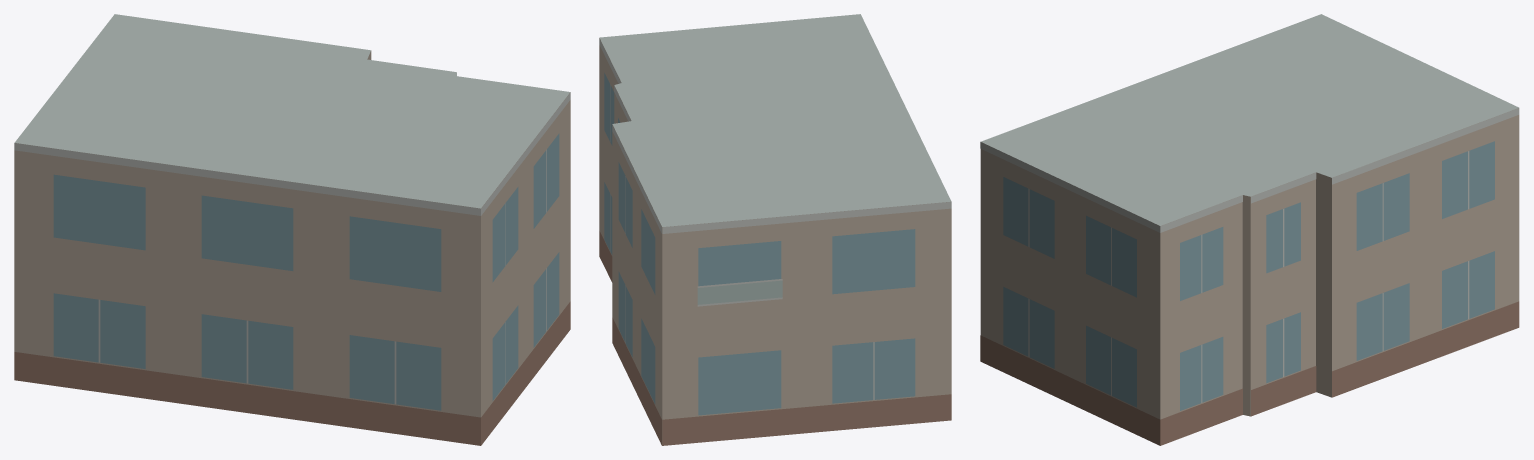
The model's file is survey-upis-33022003.glb.
3 renders of one model, left to right at view 1: azimuth 30°, elevation 25°; view 2: azimuth 150°, elevation 25°; view 3: azimuth 270°, elevation 25°, orthographic. The views are drawn at different scales.
Parts seen in each view (by area): view 1: survey-upis-33022003.tmp; view 2: survey-upis-33022003.tmp; view 3: survey-upis-33022003.tmp.
Boxes of the visible parts, x1,y1,x2,y2 form: survey-upis-33022003.tmp: [14, 14, 570, 445]; survey-upis-33022003.tmp: [599, 14, 951, 445]; survey-upis-33022003.tmp: [980, 14, 1519, 445].
Bounding box in the file's own units: 15.94 × 7.7 × 17.11.
